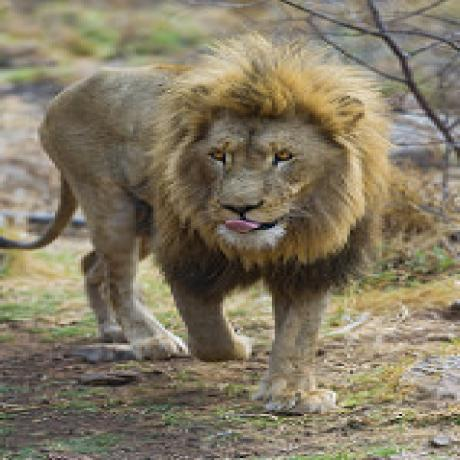Lion: (0, 38, 407, 415)
